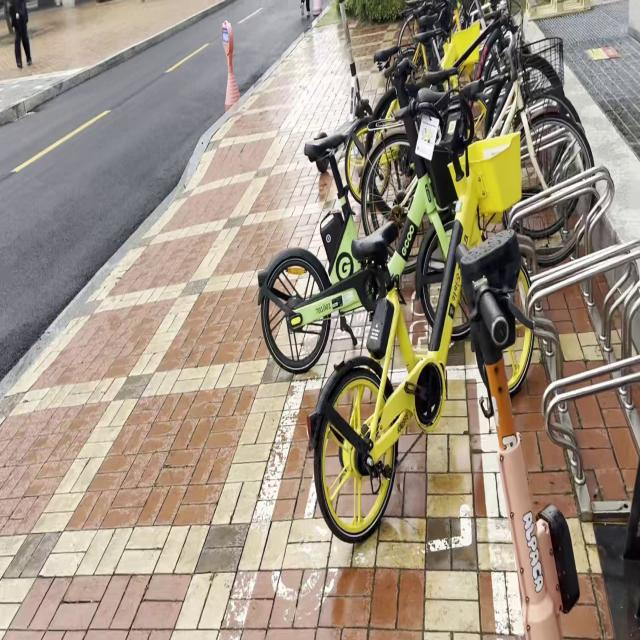ebike_ok: (317, 360, 480, 558), (245, 204, 451, 352)
